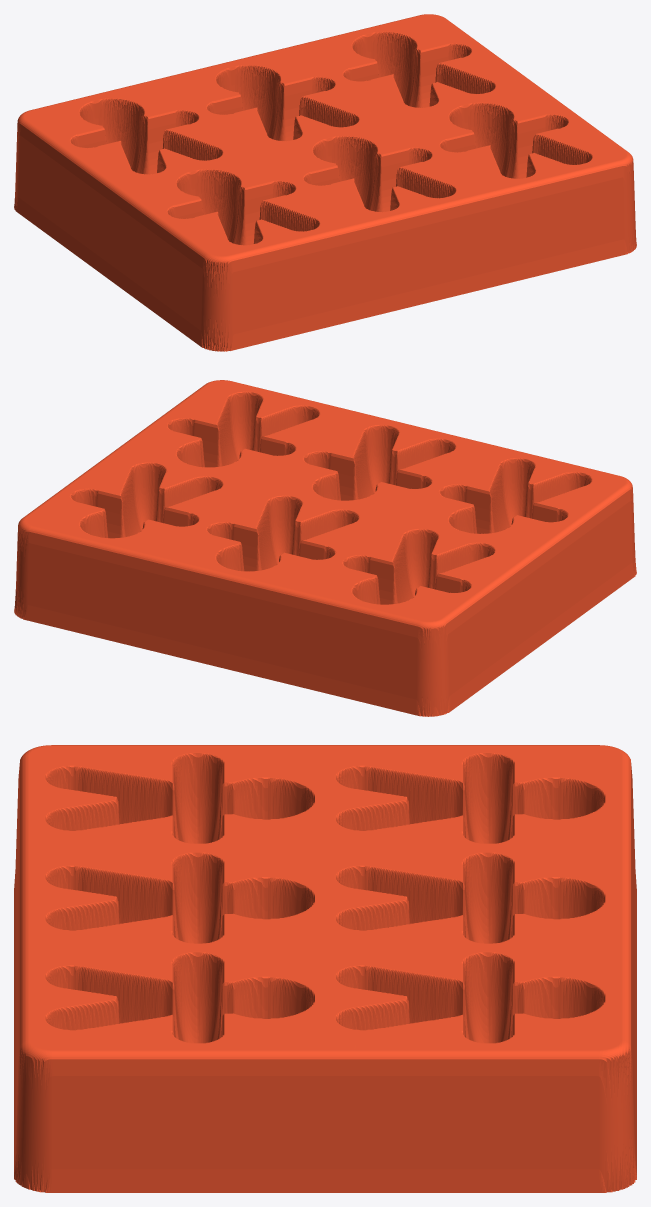
File: mold.glb
3 renders of one model, top to bottom at view 1: azimuth 30°, elevation 25°; view 2: azimuth 150°, elevation 25°; view 3: azimuth 270°, elevation 25°, orthographic. The views are drawn at different scales.
Visible parts, largest first — view 1: geometry_0; view 2: geometry_0; view 3: geometry_0.
Boxes of the visible parts, x1,y1,x2,y2 form: geometry_0: [14, 14, 636, 351]; geometry_0: [14, 380, 636, 716]; geometry_0: [14, 745, 636, 1192].
Size of the model in its own units: 0.1796 by 0.036 by 0.1492.
